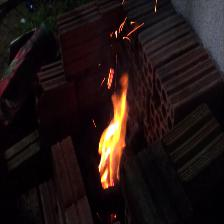fire: (90, 43, 140, 200)
